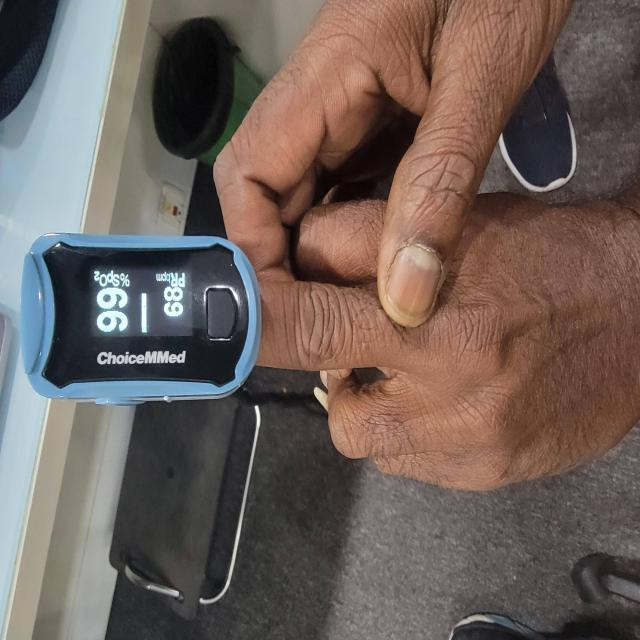spo2: (17, 233, 263, 408)
